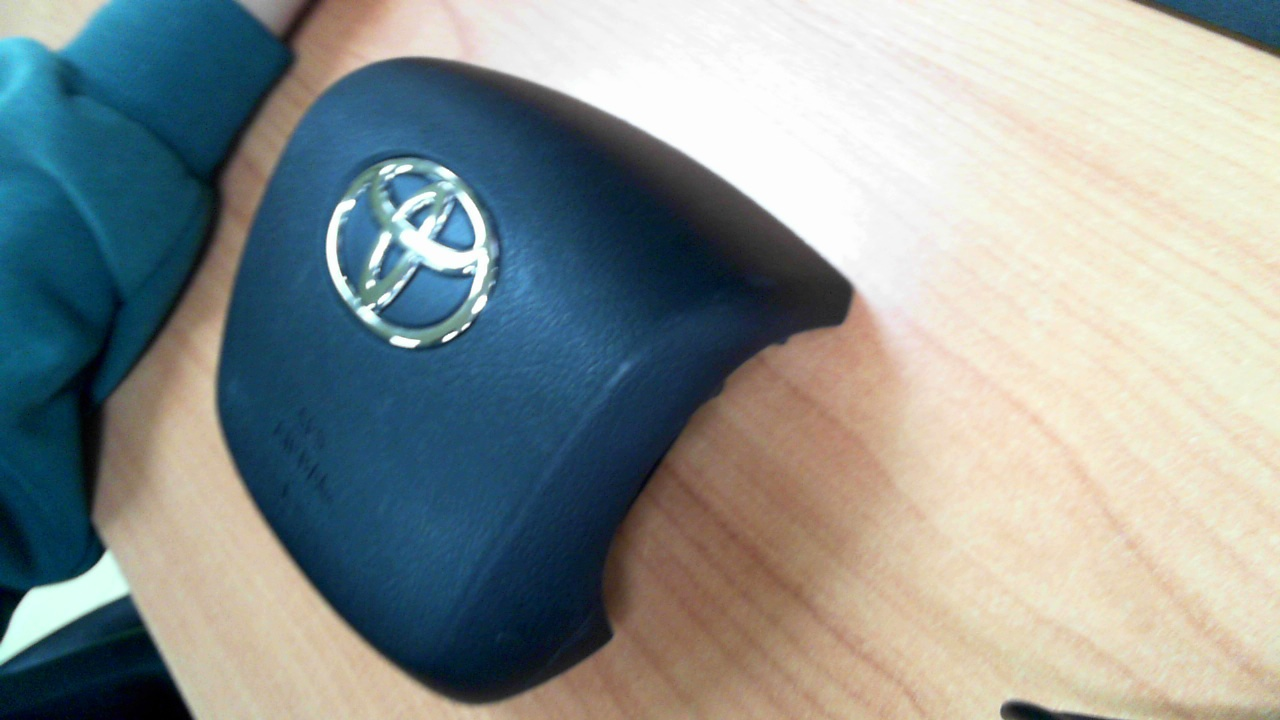Airbag: (216, 57, 853, 704)
Toyota: (326, 157, 497, 349)
